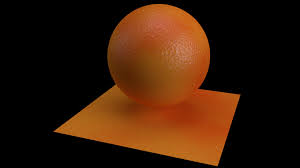orange: (106, 2, 213, 109)
